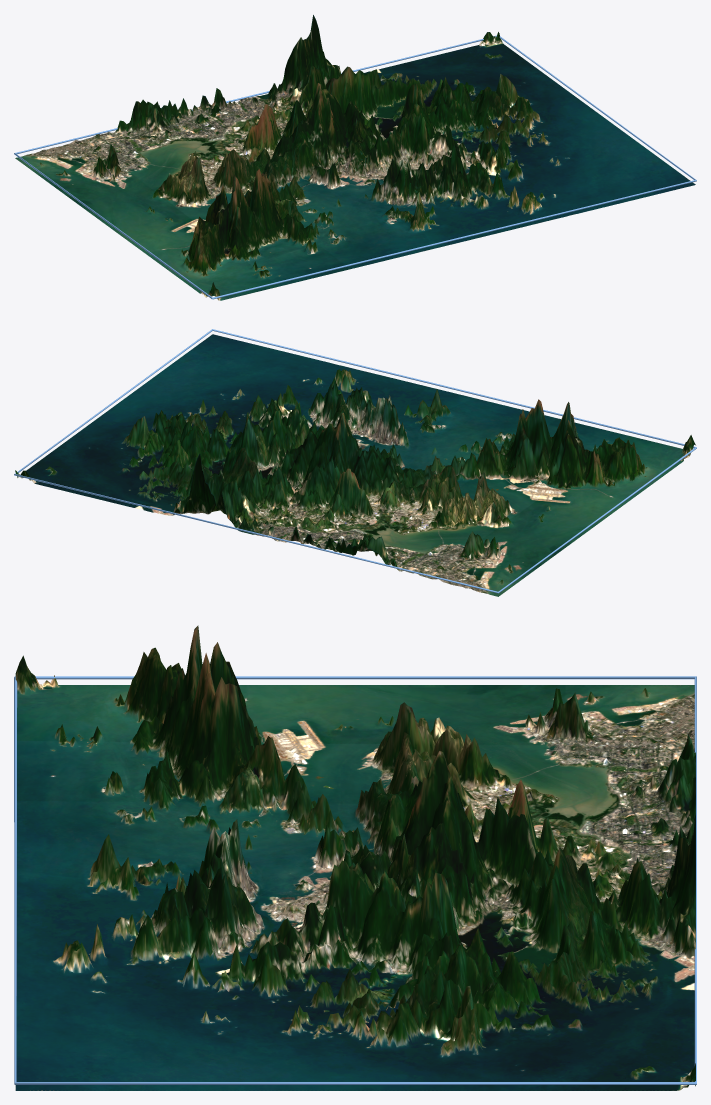
Rendered from hk-gee-terrain-model.glb.
3 renders of one model, top to bottom at view 1: azimuth 30°, elevation 25°; view 2: azimuth 150°, elevation 25°; view 3: azimuth 270°, elevation 25°, orthographic. The views are drawn at different scales.
Parts seen in each view (by area): view 1: sentinel2-draped-terrain, study-area-frame; view 2: sentinel2-draped-terrain, study-area-frame; view 3: sentinel2-draped-terrain, study-area-frame.
Part boxes in pixels (box(x1,y1,x2,y2)): sentinel2-draped-terrain: box(15, 15, 695, 300); study-area-frame: box(14, 35, 696, 299); sentinel2-draped-terrain: box(15, 334, 695, 596); study-area-frame: box(14, 329, 696, 593); sentinel2-draped-terrain: box(15, 625, 695, 1090); study-area-frame: box(14, 676, 696, 1084).
Size of the model in its own units: 7.22 by 1.05 by 5.12.
2 materials, 1 textured.
